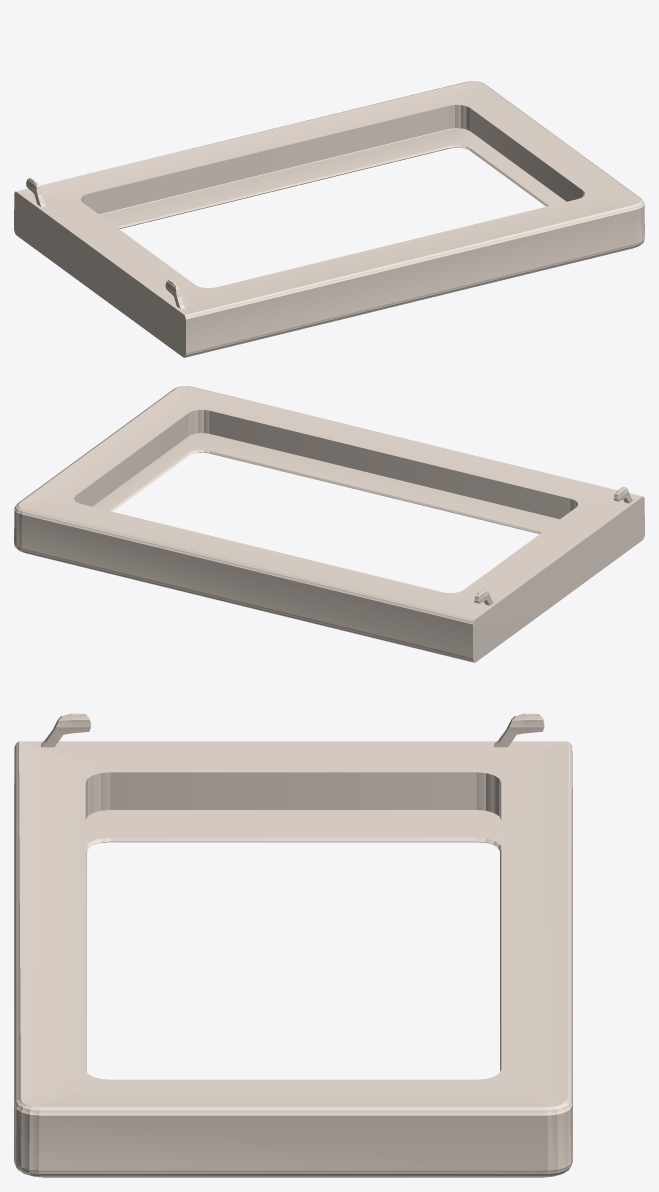
File: DoormeshMicrowaveDoorB6_1_GeomSubset_0.obj
3 views of the same model, one above another, from view 1: azimuth 30°, elevation 25°; view 2: azimuth 150°, elevation 25°; view 3: azimuth 270°, elevation 25° (orthographic). The views are drawn at different scales.
Visible parts, largest first — view 1: DoormeshMicrowaveDoorB6_1_GeomSubset_0; view 2: DoormeshMicrowaveDoorB6_1_GeomSubset_0; view 3: DoormeshMicrowaveDoorB6_1_GeomSubset_0.
Part boxes in pixels (x1,y1,x2,y2): DoormeshMicrowaveDoorB6_1_GeomSubset_0: [14, 81, 644, 357]; DoormeshMicrowaveDoorB6_1_GeomSubset_0: [14, 386, 644, 662]; DoormeshMicrowaveDoorB6_1_GeomSubset_0: [14, 713, 572, 1177].
Size of the model in its own units: 0.4849 by 0.1596 by 0.3506.
